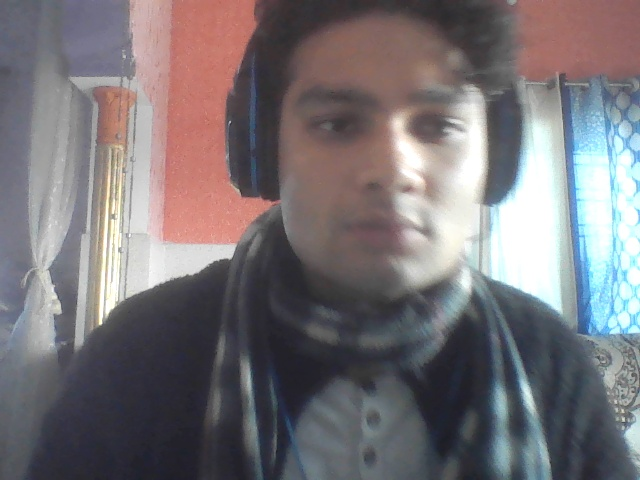real: (245, 0, 517, 385)
